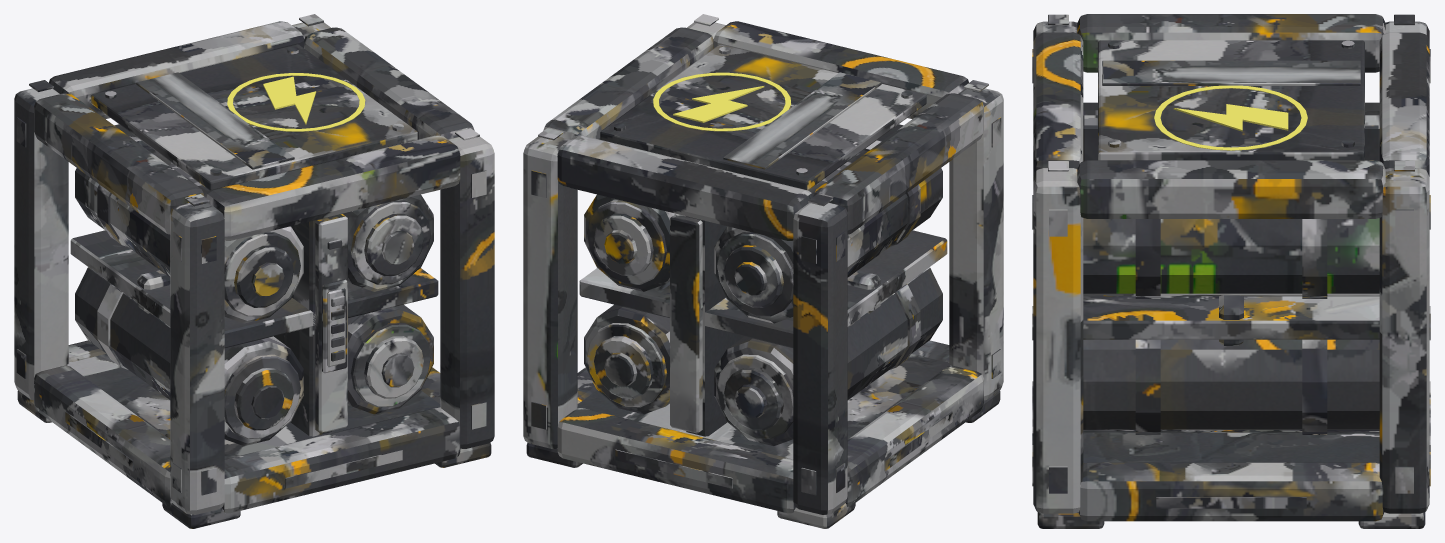
Rendered from SM_Battery.fbx.
The picture shows the model from 3 angles, left to right: view 1: azimuth 30°, elevation 25°; view 2: azimuth 150°, elevation 25°; view 3: azimuth 270°, elevation 25°; orthographic projection. The views are drawn at different scales.
Visible parts, largest first — view 1: SMT_Battery, Emblem_Battery; view 2: SMT_Battery, Emblem_Battery; view 3: SMT_Battery, Emblem_Battery.
Boxes of the visible parts, x1=… form: SMT_Battery: x1=14, y1=14, x2=494, y2=528; Emblem_Battery: x1=227, y1=73, x2=365, y2=131; SMT_Battery: x1=523, y1=14, x2=1003, y2=528; Emblem_Battery: x1=653, y1=72, x2=791, y2=131; SMT_Battery: x1=1032, y1=14, x2=1430, y2=528; Emblem_Battery: x1=1154, y1=85, x2=1307, y2=150.
Size of the model in its own units: 0.956 by 0.945 by 0.956.
